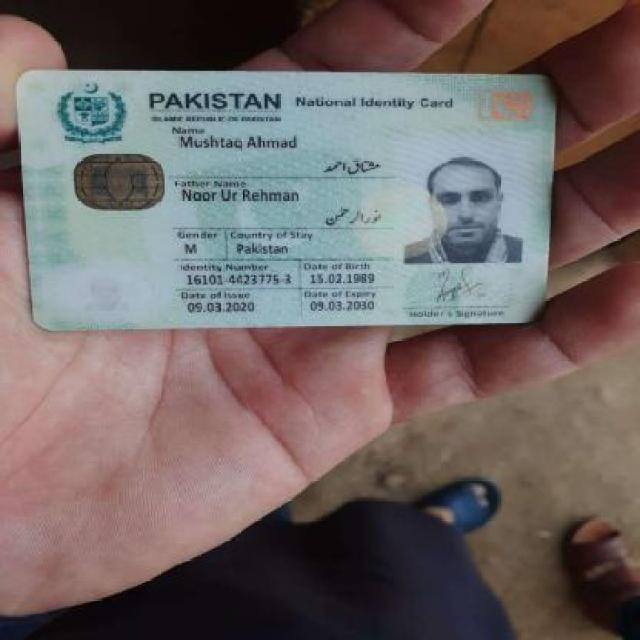Front: (8, 63, 563, 332)
